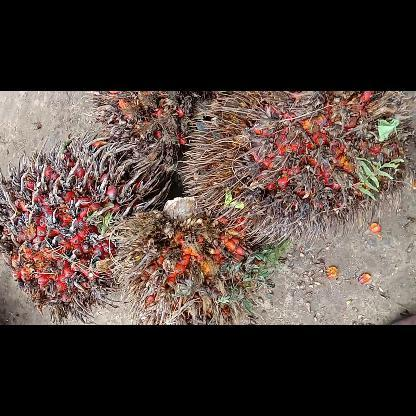Terlalu masak: (177, 91, 415, 245), (0, 134, 174, 324), (110, 186, 278, 324), (84, 91, 218, 164)
